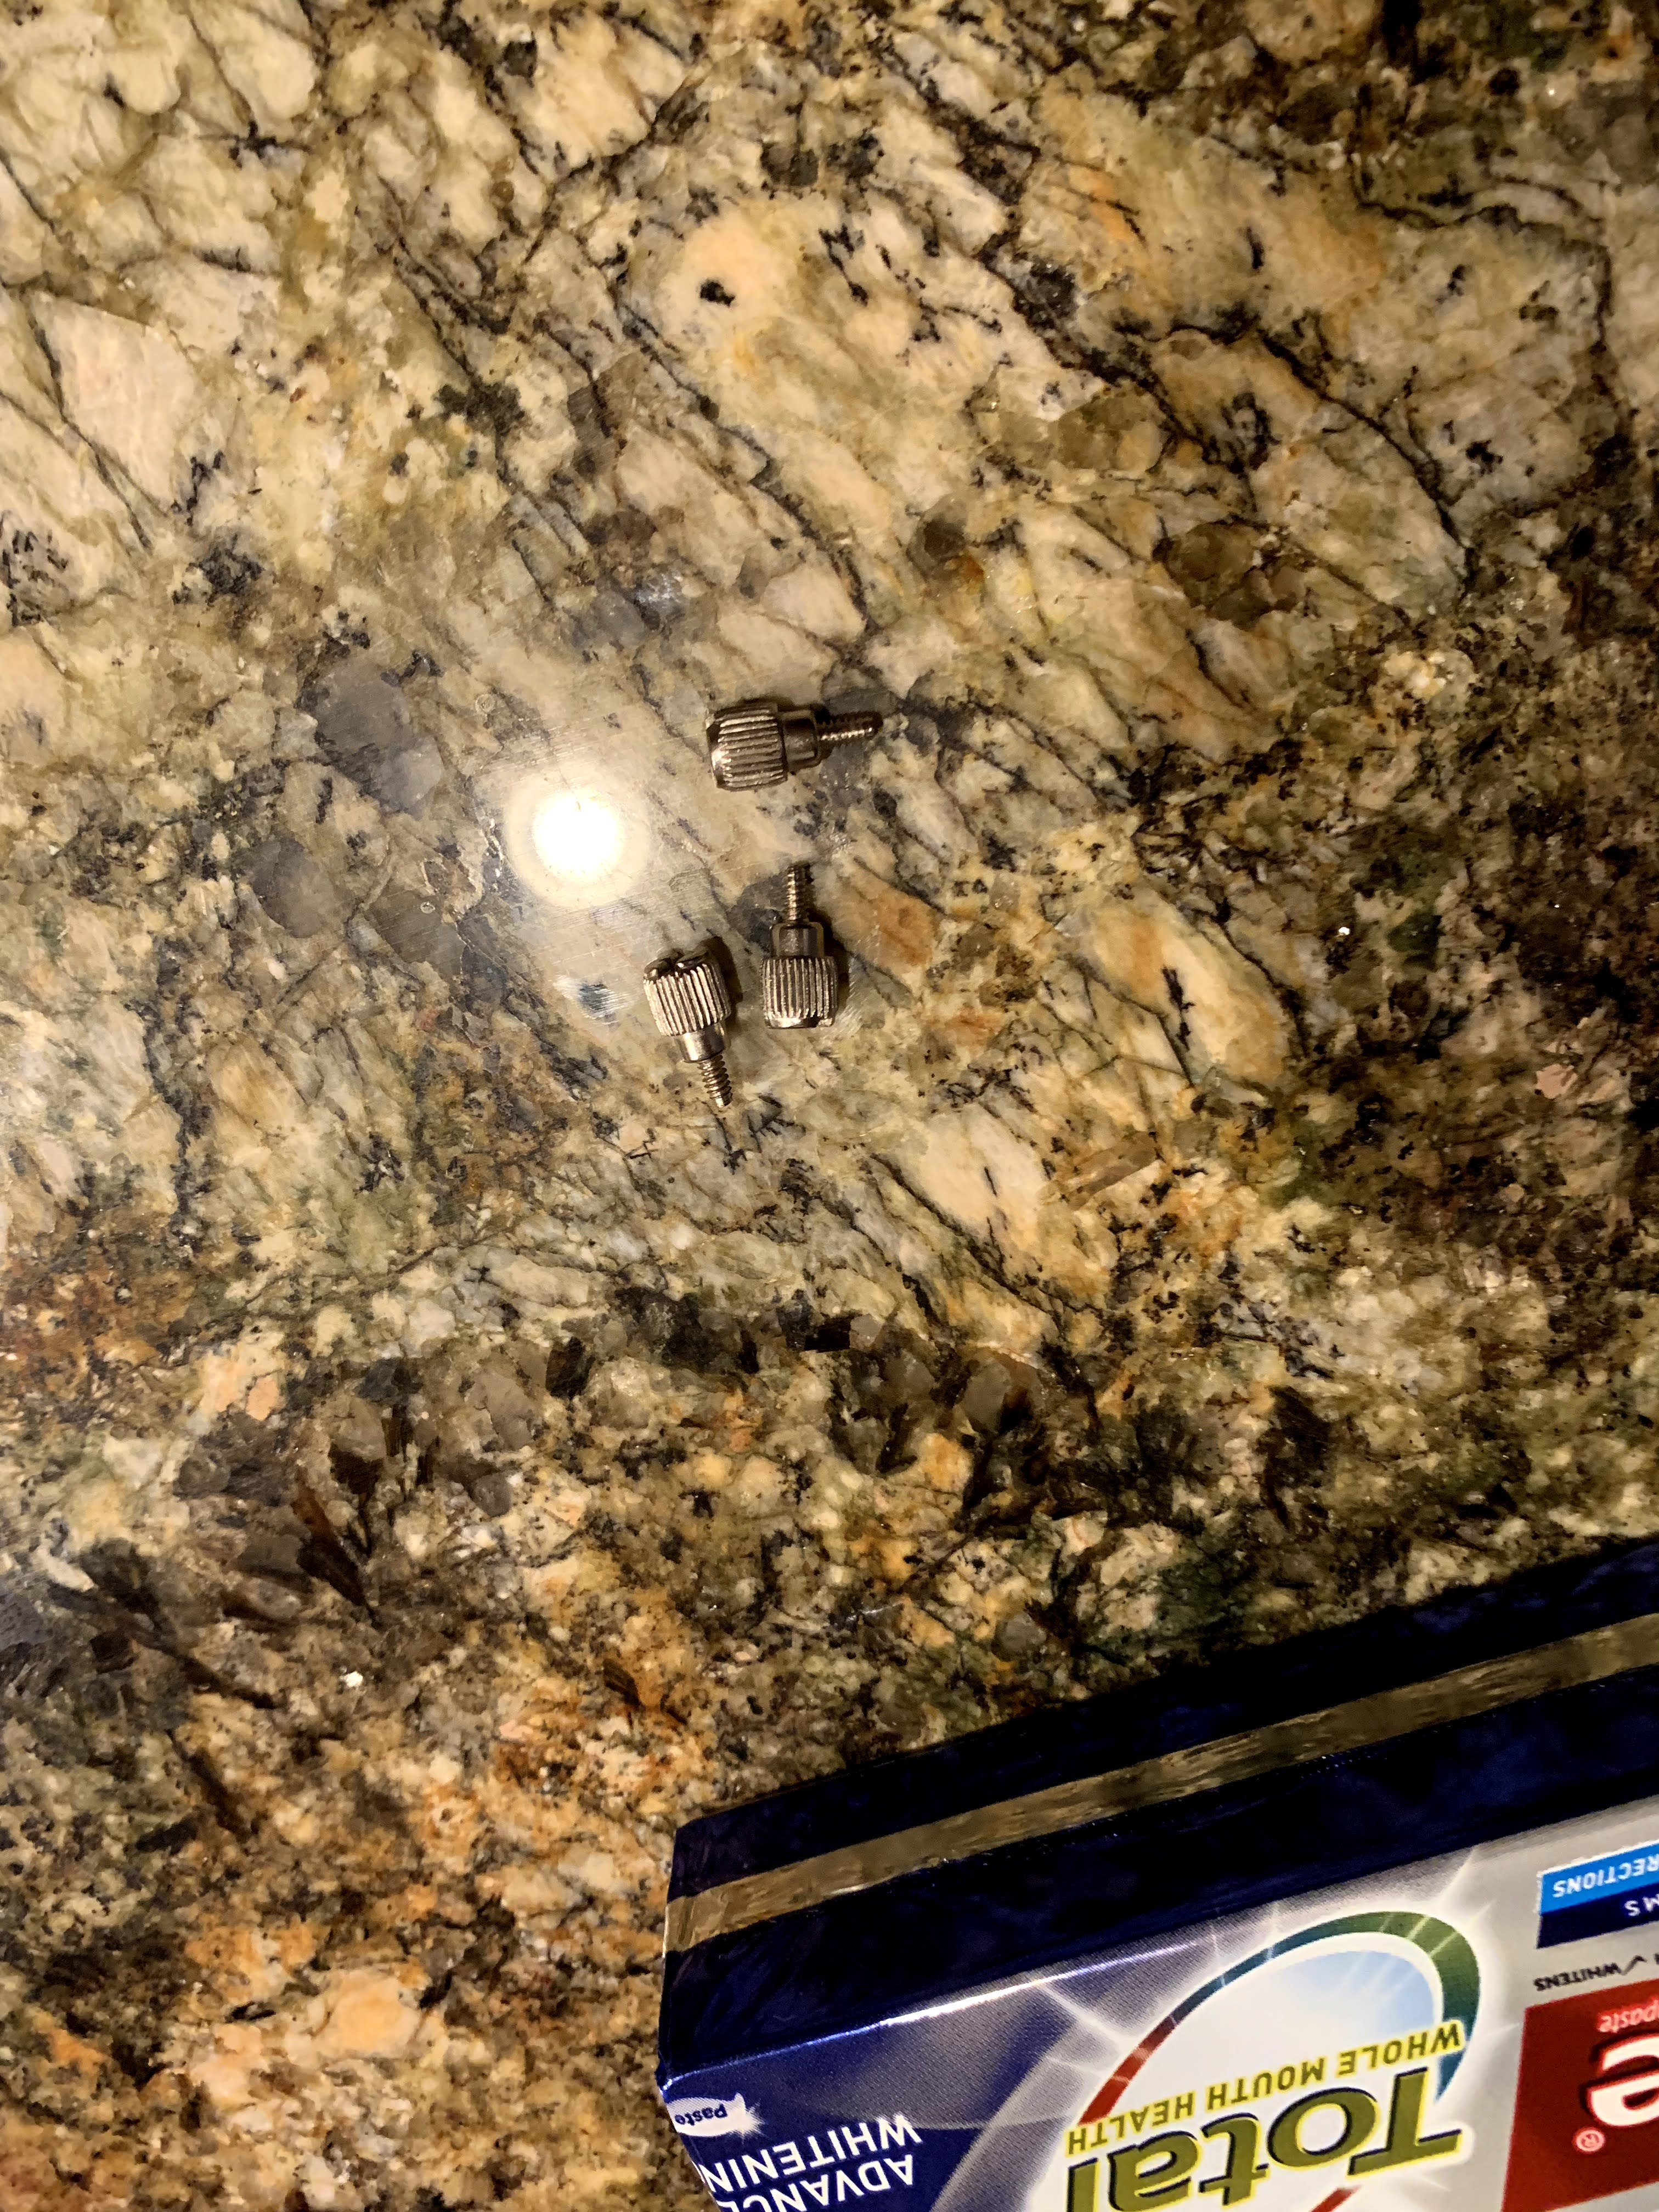Space-debris-small: (640, 946, 749, 1116), (702, 693, 884, 792), (758, 862, 854, 1038)
